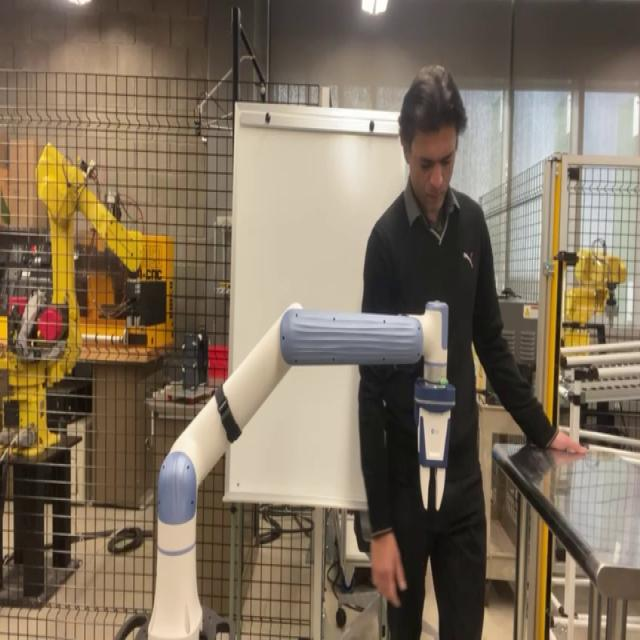human: (356, 63, 586, 637)
